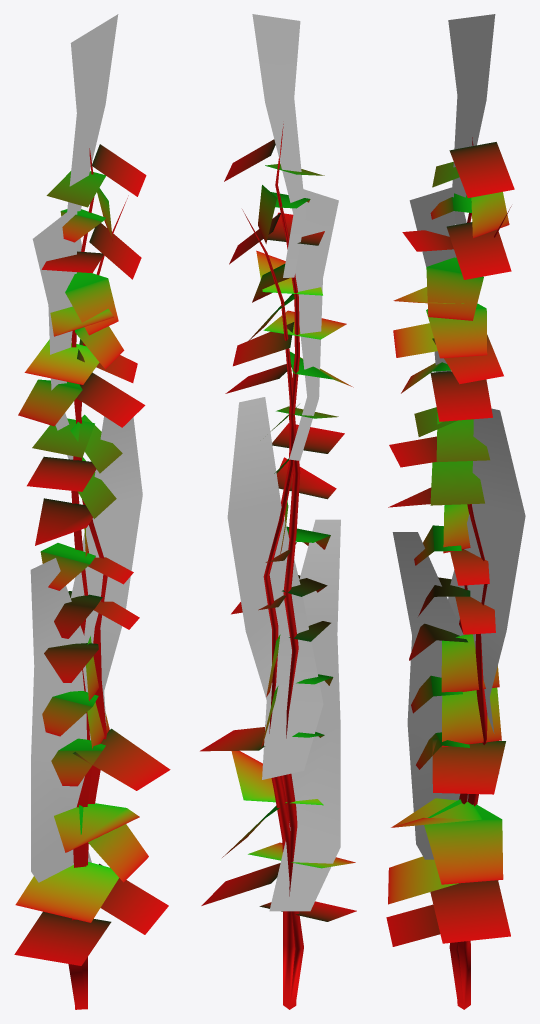
The model's file is lierre_var_9_lod.fbx.
3 views of the same model, side by side, from view 1: azimuth 30°, elevation 25°; view 2: azimuth 210°, elevation 25°; view 3: azimuth 330°, elevation 25° (orthographic).
Parts seen in each view (by area): view 1: _a86e_Var9_LOD3; view 2: _a86e_Var9_LOD3; view 3: _a86e_Var9_LOD3.
Boxes of the visible parts, x1,y1,x2,y2 form: _a86e_Var9_LOD3: (14,14,170,1009); _a86e_Var9_LOD3: (200,14,356,1009); _a86e_Var9_LOD3: (386,14,525,1009).
Size of the model in its own units: 15.01 by 102 by 12.58.
